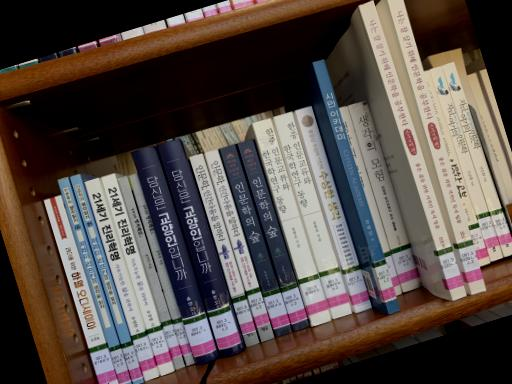book-spine: (358, 0, 466, 301), (387, 0, 486, 294), (312, 60, 400, 314), (131, 146, 219, 365), (156, 138, 244, 357), (252, 118, 332, 326), (273, 111, 352, 319), (295, 106, 372, 313), (70, 174, 143, 384), (84, 177, 158, 382), (58, 178, 131, 384), (101, 173, 174, 376), (430, 65, 503, 262), (43, 195, 119, 384), (236, 139, 310, 331), (348, 100, 421, 291), (220, 144, 292, 337), (442, 61, 512, 256), (189, 154, 259, 347), (205, 149, 274, 342), (424, 70, 491, 267), (117, 176, 185, 369), (128, 173, 195, 366), (339, 106, 403, 296)
